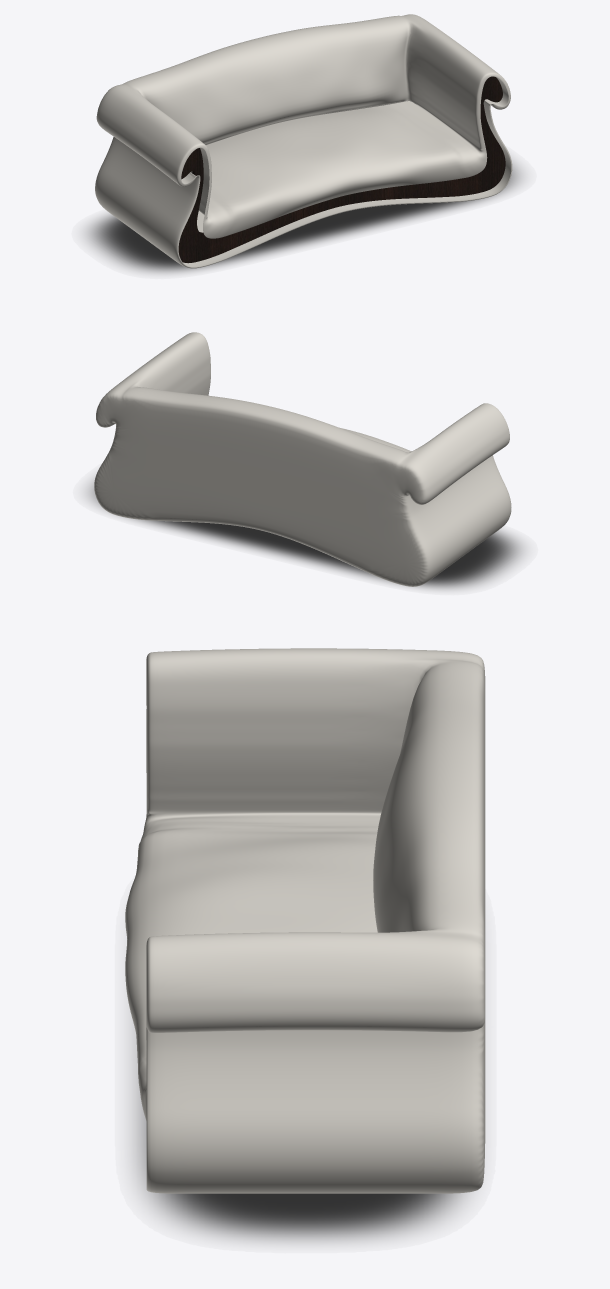
File: updated2.gltf
3 views of the same model, one above another, from view 1: azimuth 30°, elevation 25°; view 2: azimuth 150°, elevation 25°; view 3: azimuth 270°, elevation 25° (orthographic). The views are drawn at different scales.
Visible parts, largest first — view 1: Tricani Sofa_skinn_01_0, Plane001, Wood_Material #33_0; view 2: Tricani Sofa_skinn_01_0, Plane001; view 3: Tricani Sofa_skinn_01_0, Plane001.
Boxes of the visible parts, x1,y1,x2,y2 form: Tricani Sofa_skinn_01_0: (95,14,512,268); Plane001: (86,161,521,273); Wood_Material #33_0: (178,76,505,263); Tricani Sofa_skinn_01_0: (94,332,511,586); Plane001: (87,481,523,589); Tricani Sofa_skinn_01_0: (125,648,485,1193); Plane001: (134,1028,466,1241).
Size of the model in its own units: 80.39 by 22.63 by 33.8.
3 materials, 2 textured.
